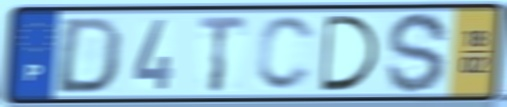4: (131, 17, 175, 92)
C: (253, 13, 319, 94)
D: (51, 14, 126, 96), (318, 13, 384, 94)
S: (384, 9, 452, 96)
T: (196, 14, 250, 94)
